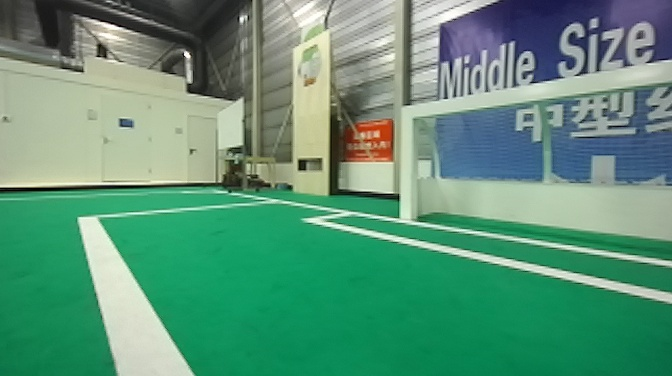goalpost: (393, 101, 423, 227)
